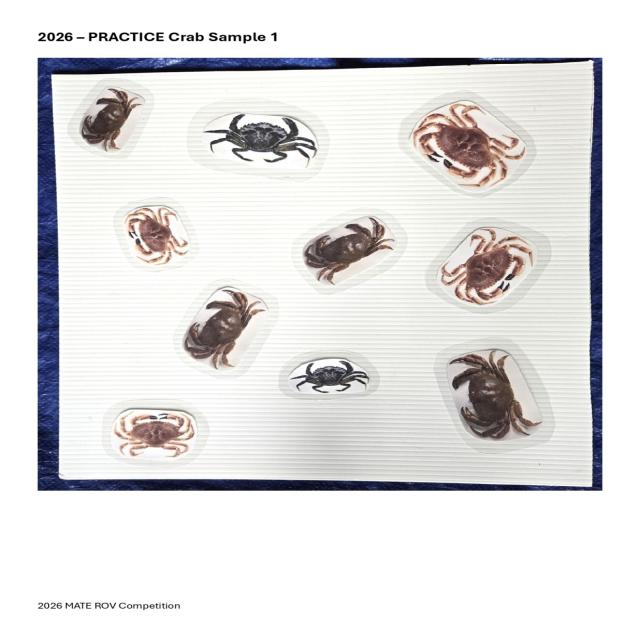egc: (202, 114, 318, 168), (290, 360, 370, 394)
